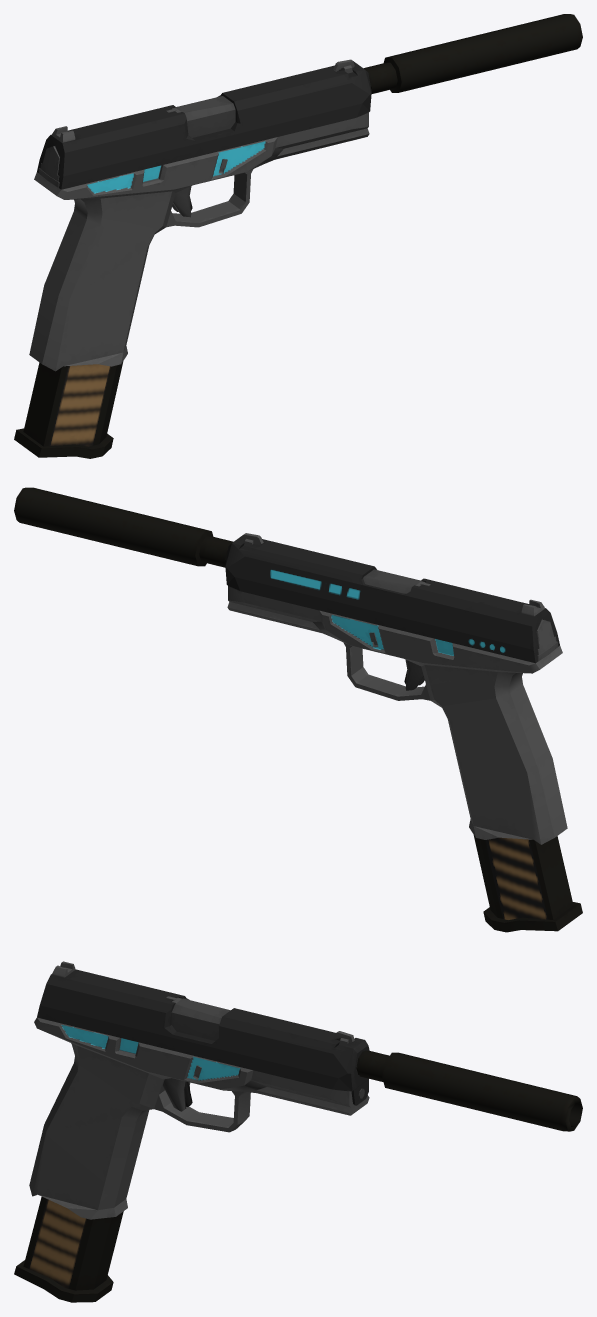
Rendered from Pistol 3.fbx.
3 renders of one model, top to bottom at view 1: azimuth 30°, elevation 25°; view 2: azimuth 150°, elevation 25°; view 3: azimuth 330°, elevation 25°, orthographic.
Parts seen in each view (by area): view 1: Pistol 3; view 2: Pistol 3; view 3: Pistol 3.
Boxes of the visible parts, box(x1,y1,x2,y2) form: Pistol 3: box(14, 14, 582, 458); Pistol 3: box(14, 487, 582, 932); Pistol 3: box(14, 961, 582, 1302).
Bounding box in the file's own units: 27.1 × 15.18 × 2.69.
